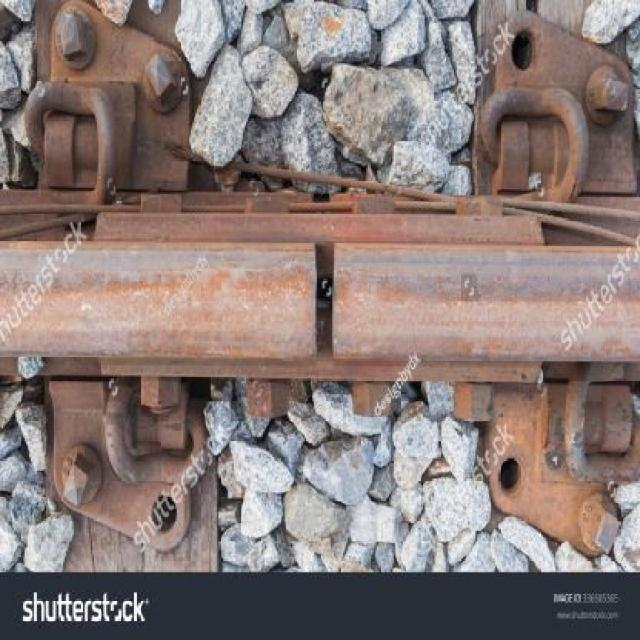defective: (262, 163, 435, 439)
